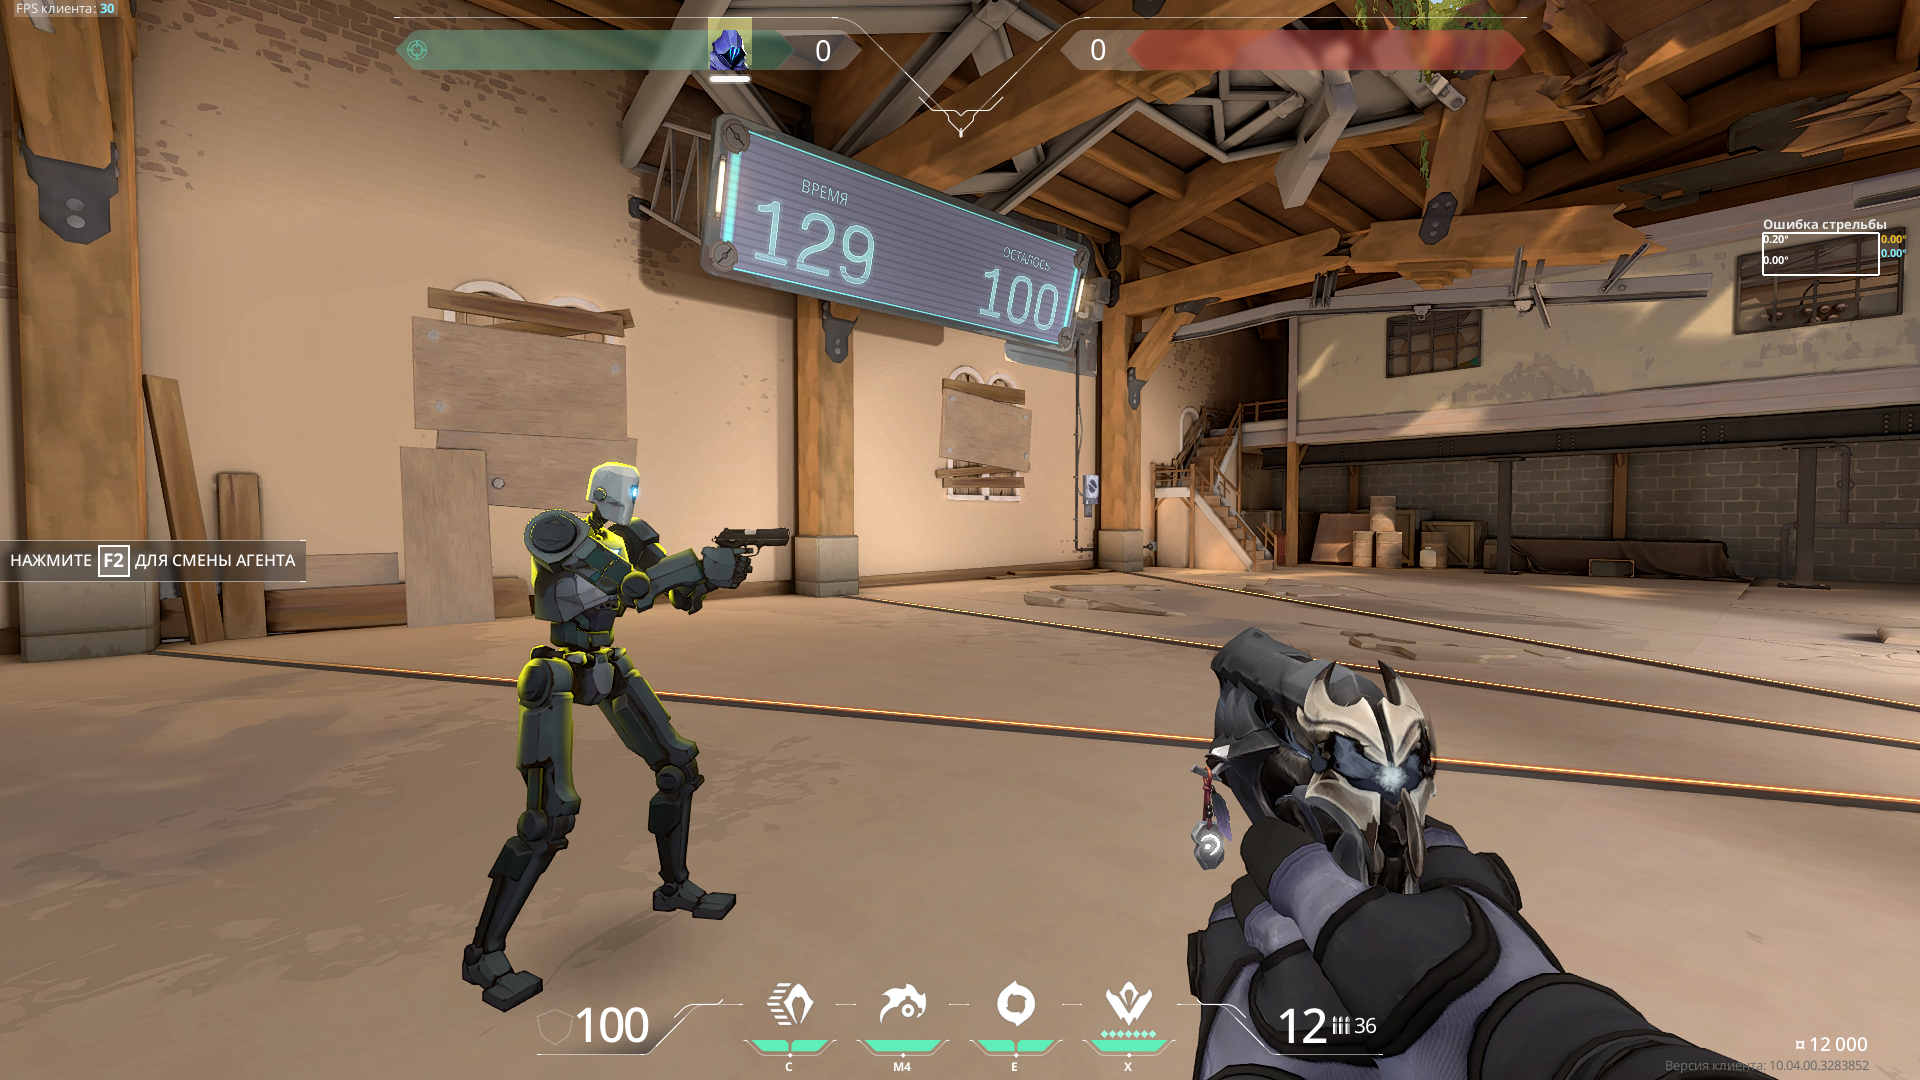head: (587, 462, 640, 526)
